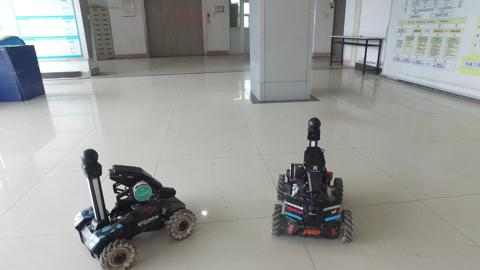chariot: (64, 150, 199, 268), (261, 114, 362, 244)
